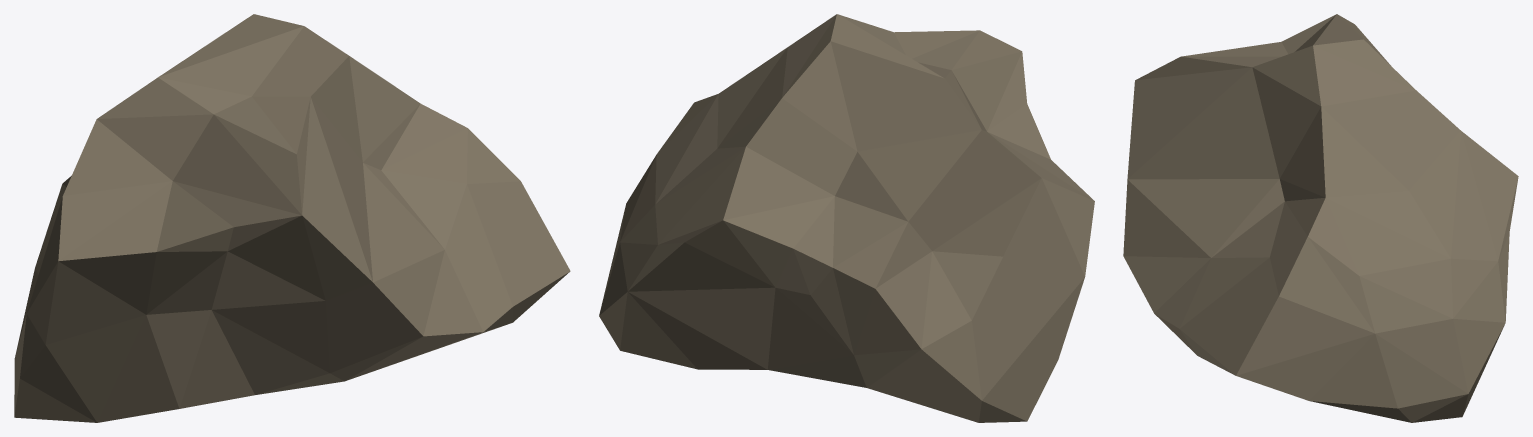
Rendered from MediumRock_2.fbx.
3 renders of one model, left to right at view 1: azimuth 30°, elevation 25°; view 2: azimuth 150°, elevation 25°; view 3: azimuth 270°, elevation 25°, orthographic. The views are drawn at different scales.
Parts seen in each view (by area): view 1: MediumRock_2; view 2: MediumRock_2; view 3: MediumRock_2.
Part boxes in pixels (x1,y1,x2,y2): MediumRock_2: (14,14,570,422); MediumRock_2: (599,14,1094,422); MediumRock_2: (1123,14,1518,422).
Size of the model in its own units: 56.42 by 39.35 by 44.08.
